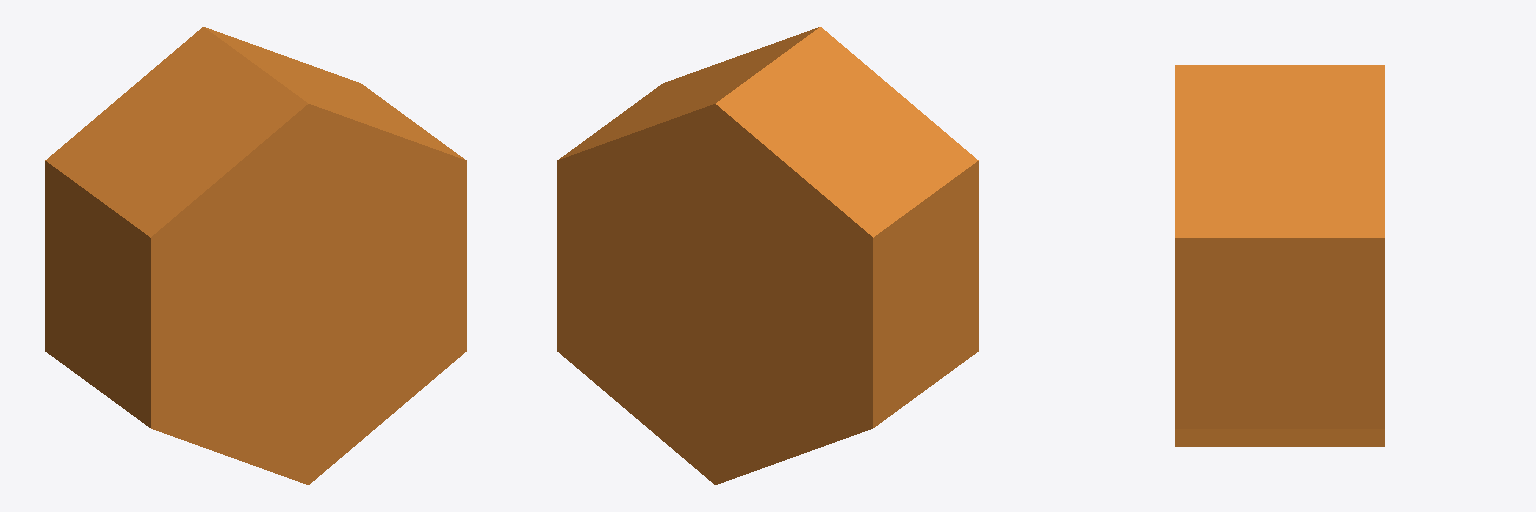
Rendered from RoverBody.obj.
The picture shows the model from 3 angles: view 1: azimuth 30°, elevation 25°; view 2: azimuth 150°, elevation 25°; view 3: azimuth 270°, elevation 25°; orthographic projection.
Parts seen in each view (by area): view 1: Cylinder1; view 2: Cylinder1; view 3: Cylinder1.
Part boxes in pixels (x1,y1,x2,y2): Cylinder1: (45,27,466,484); Cylinder1: (557,27,978,484); Cylinder1: (1175,65,1384,446).
Bounding box in the file's own units: 0.866 × 1 × 0.5.